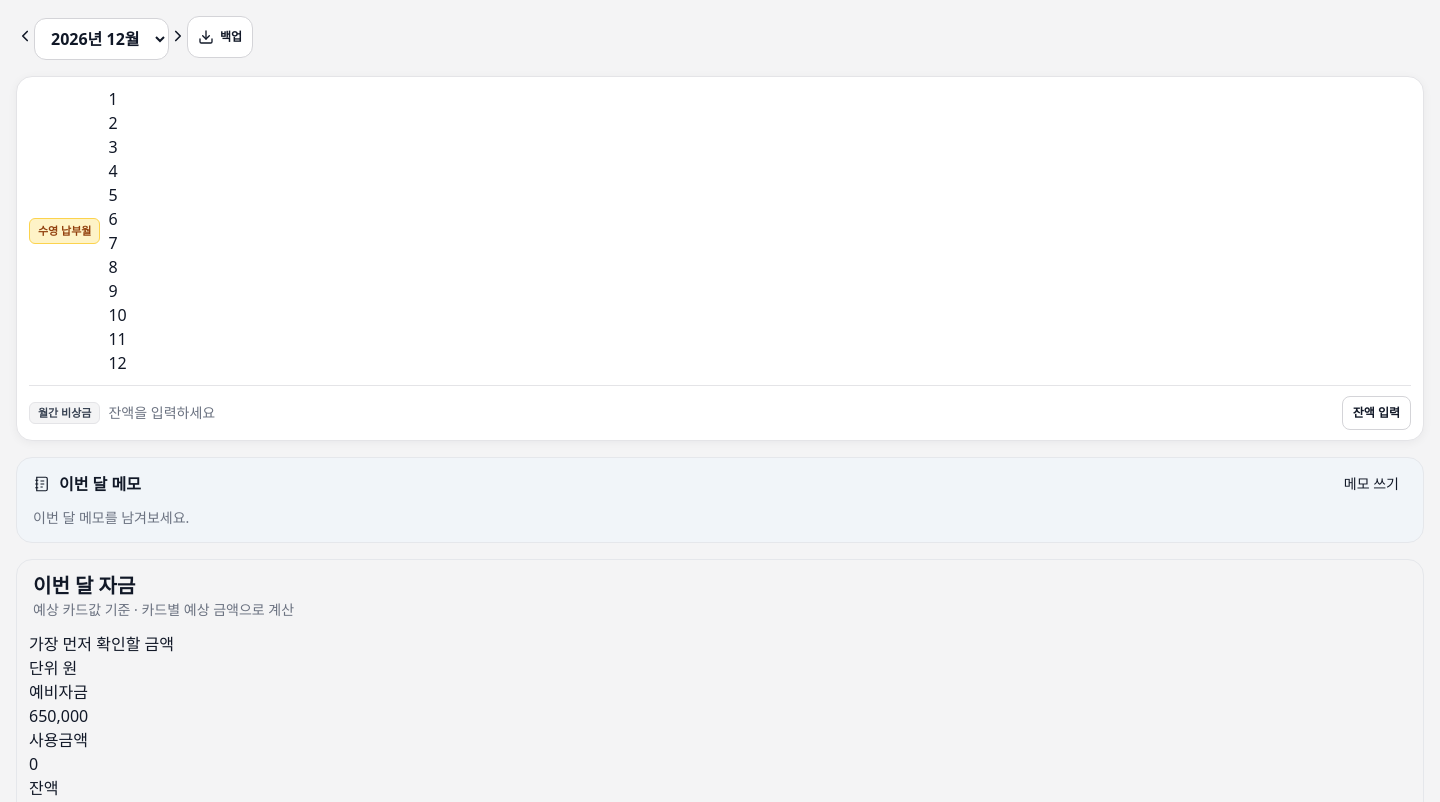
Test: DashboardPage › switches months across year boundaries with previous and next buttons
Expected: the dropdown named "기준월" shows "2026년 12월", x1=34 y1=18 x2=169 y2=60
Click the button named "다음 달".
click(178, 36)  # box x1=169 y1=27 x2=187 y2=45
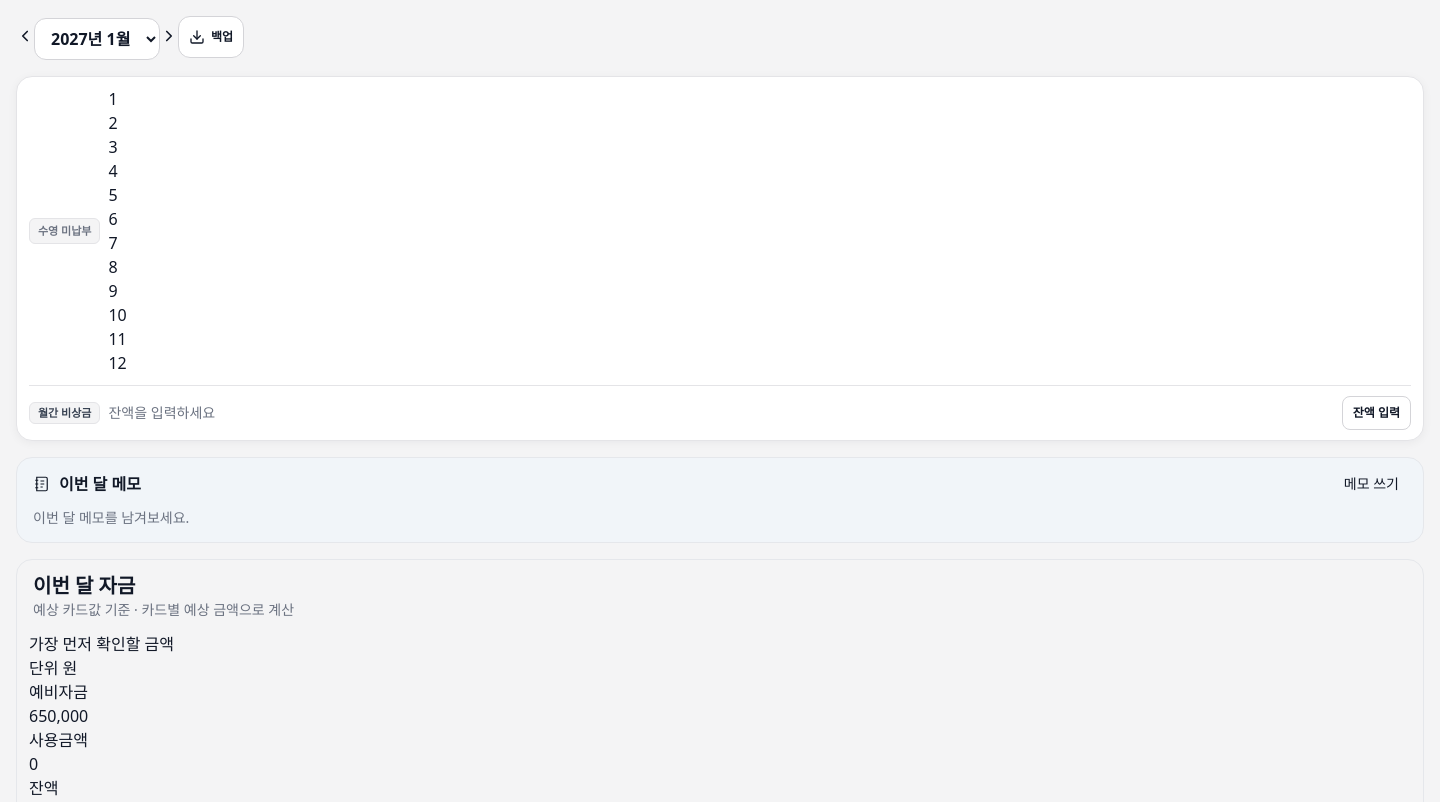
Expected: the dropdown named "기준월" shows "2027년 1월", x1=34 y1=18 x2=160 y2=60
Click the button named "이전 달".
click(25, 36)  # box x1=16 y1=27 x2=34 y2=45
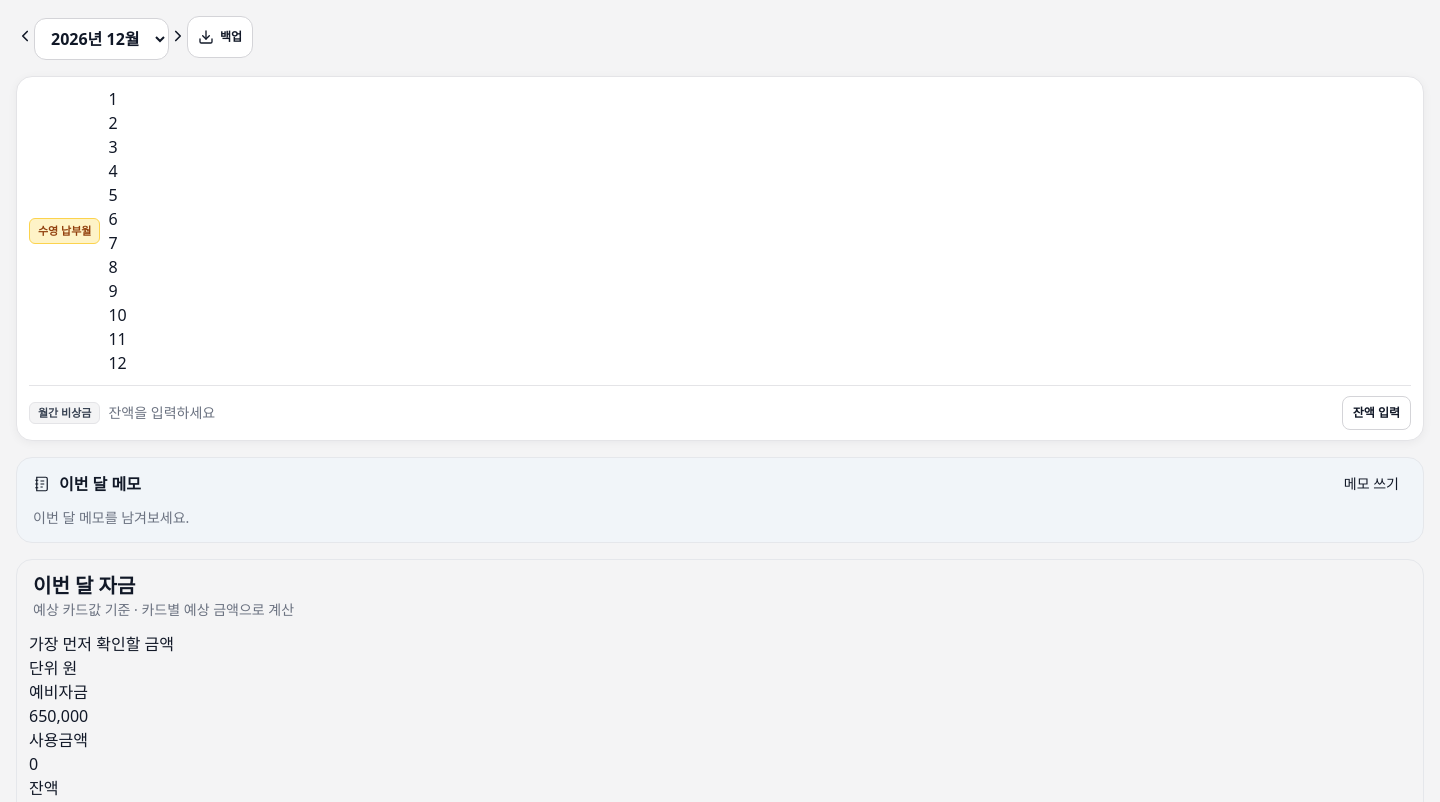
Expected: the dropdown named "기준월" shows "2026년 12월", x1=34 y1=18 x2=169 y2=60
